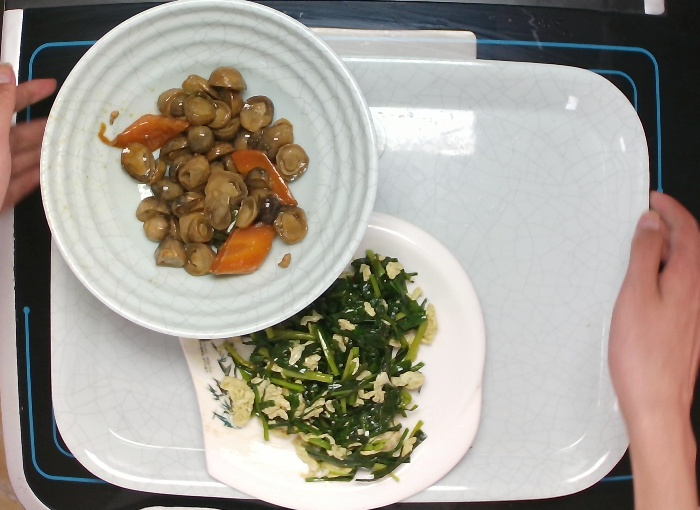JYsf-Da_Tang_Wan: (30, 1, 382, 344)
JYsf-Mian_Pan: (175, 207, 487, 510)
